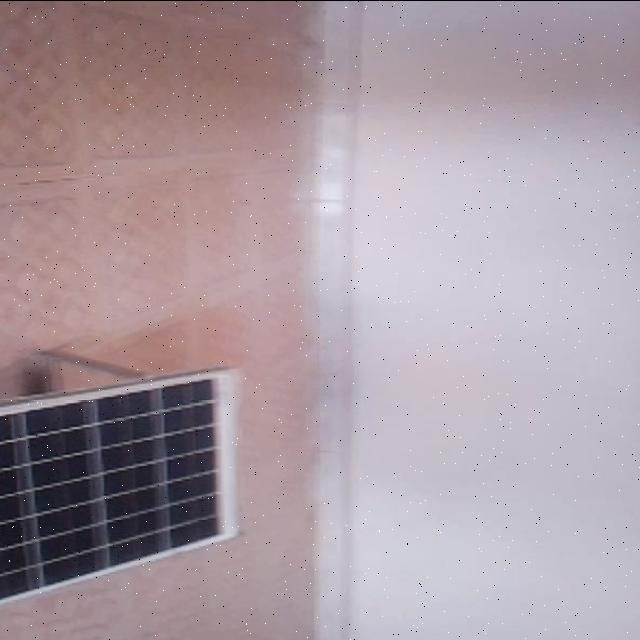Normal Solar Panel: (0, 368, 241, 618)
